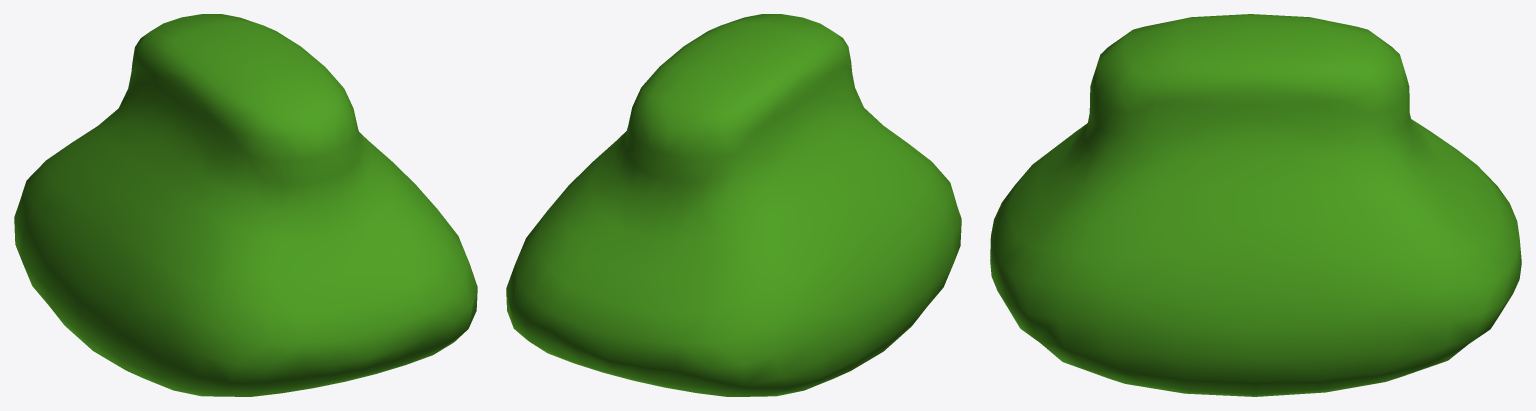
File: Bush 9.fbx
3 renders of one model, left to right at view 1: azimuth 30°, elevation 25°; view 2: azimuth 150°, elevation 25°; view 3: azimuth 270°, elevation 25°, orthographic. The views are drawn at different scales.
Parts seen in each view (by area): view 1: Cube; view 2: Cube; view 3: Cube.
Boxes of the visible parts, x1=… form: Cube: x1=14, y1=14, x2=477, y2=396; Cube: x1=506, y1=14, x2=961, y2=396; Cube: x1=990, y1=14, x2=1521, y2=396.
Bounding box in the file's own units: 254 × 212 × 338.
